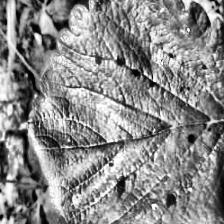Leaf Spot: (25, 0, 224, 224)
